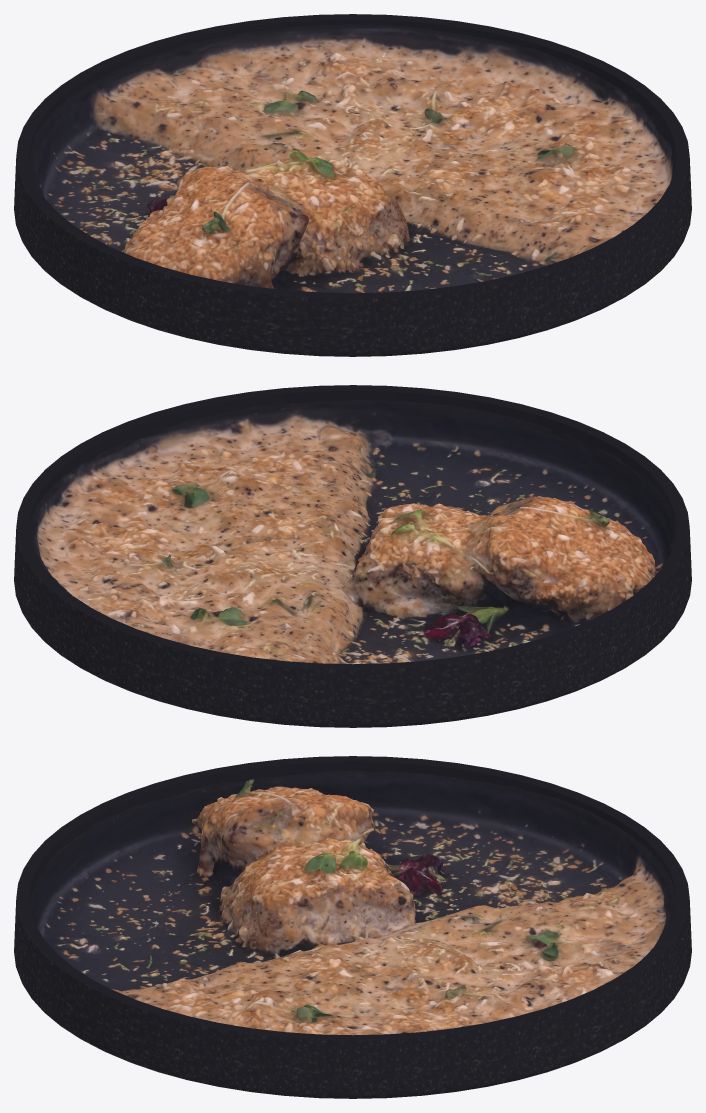
The model's file is Nonibahar redefined.glb.
3 renders of one model, top to bottom at view 1: azimuth 30°, elevation 25°; view 2: azimuth 150°, elevation 25°; view 3: azimuth 270°, elevation 25°, orthographic.
Visible parts, largest first — view 1: food2, pCylinder1.001; view 2: food2, pCylinder1.001; view 3: food2, pCylinder1.001.
Part boxes in pixels (x1,y1,x2,y2): food2: (30,24,675,293); pCylinder1.001: (14,14,691,356); food2: (29,400,675,664); pCylinder1.001: (14,385,691,727); food2: (30,770,676,1035); pCylinder1.001: (14,756,691,1098).
Size of the model in its own units: 0.1434 by 0.0214 by 0.1434.
2 materials, 2 textured.
